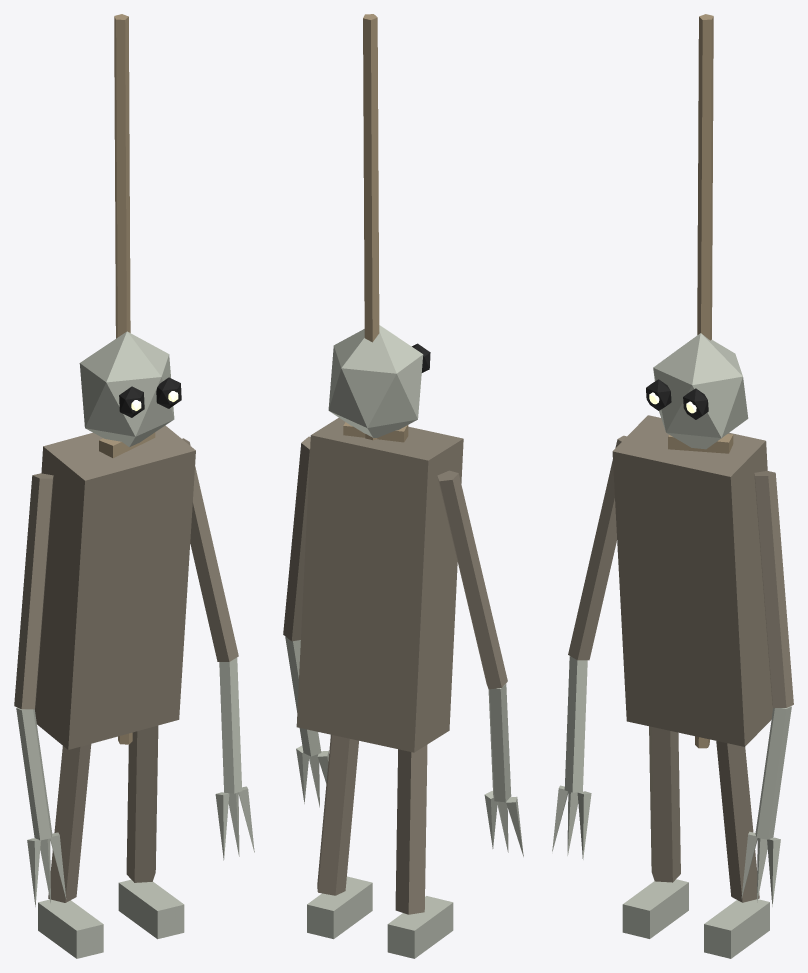
Rendered from hanged_man.glb.
3 views of the same model, side by side, from view 1: azimuth 30°, elevation 25°; view 2: azimuth 150°, elevation 25°; view 3: azimuth 330°, elevation 25° (orthographic).
Visible parts, largest first — view 1: hanged_man; view 2: hanged_man; view 3: hanged_man.
Boxes of the visible parts, x1,y1,x2,y2 form: hanged_man: [14, 14, 254, 958]; hanged_man: [283, 14, 523, 958]; hanged_man: [552, 14, 793, 958].
Bounding box in the file's own units: 0.6528 × 2.59 × 0.328.
